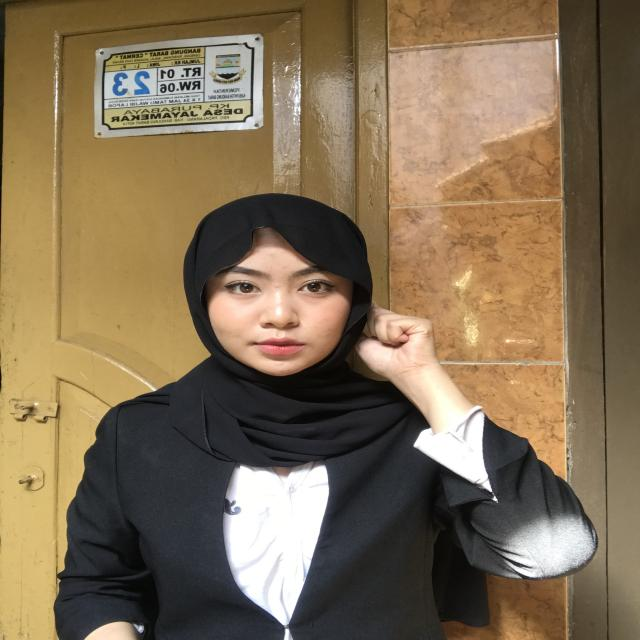ibu: (334, 298, 491, 458)
